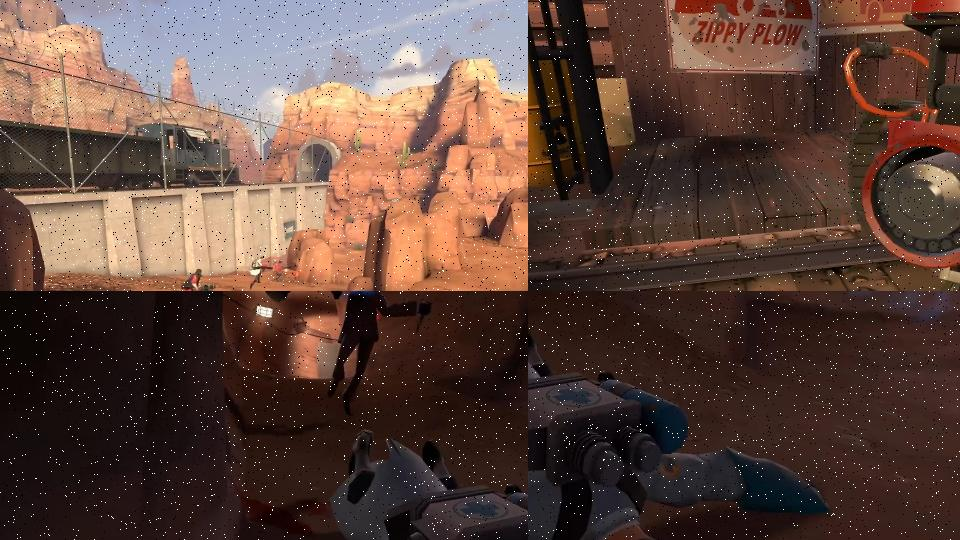Enemy: (528, 313, 832, 540), (320, 426, 528, 540), (325, 291, 433, 416), (180, 268, 217, 291), (248, 256, 273, 288), (273, 258, 298, 285)
